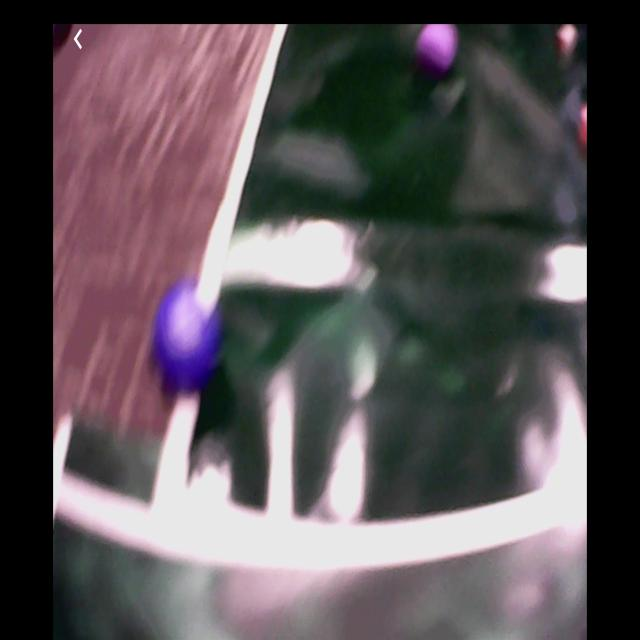ball: (159, 286, 213, 385), (417, 23, 457, 71)
